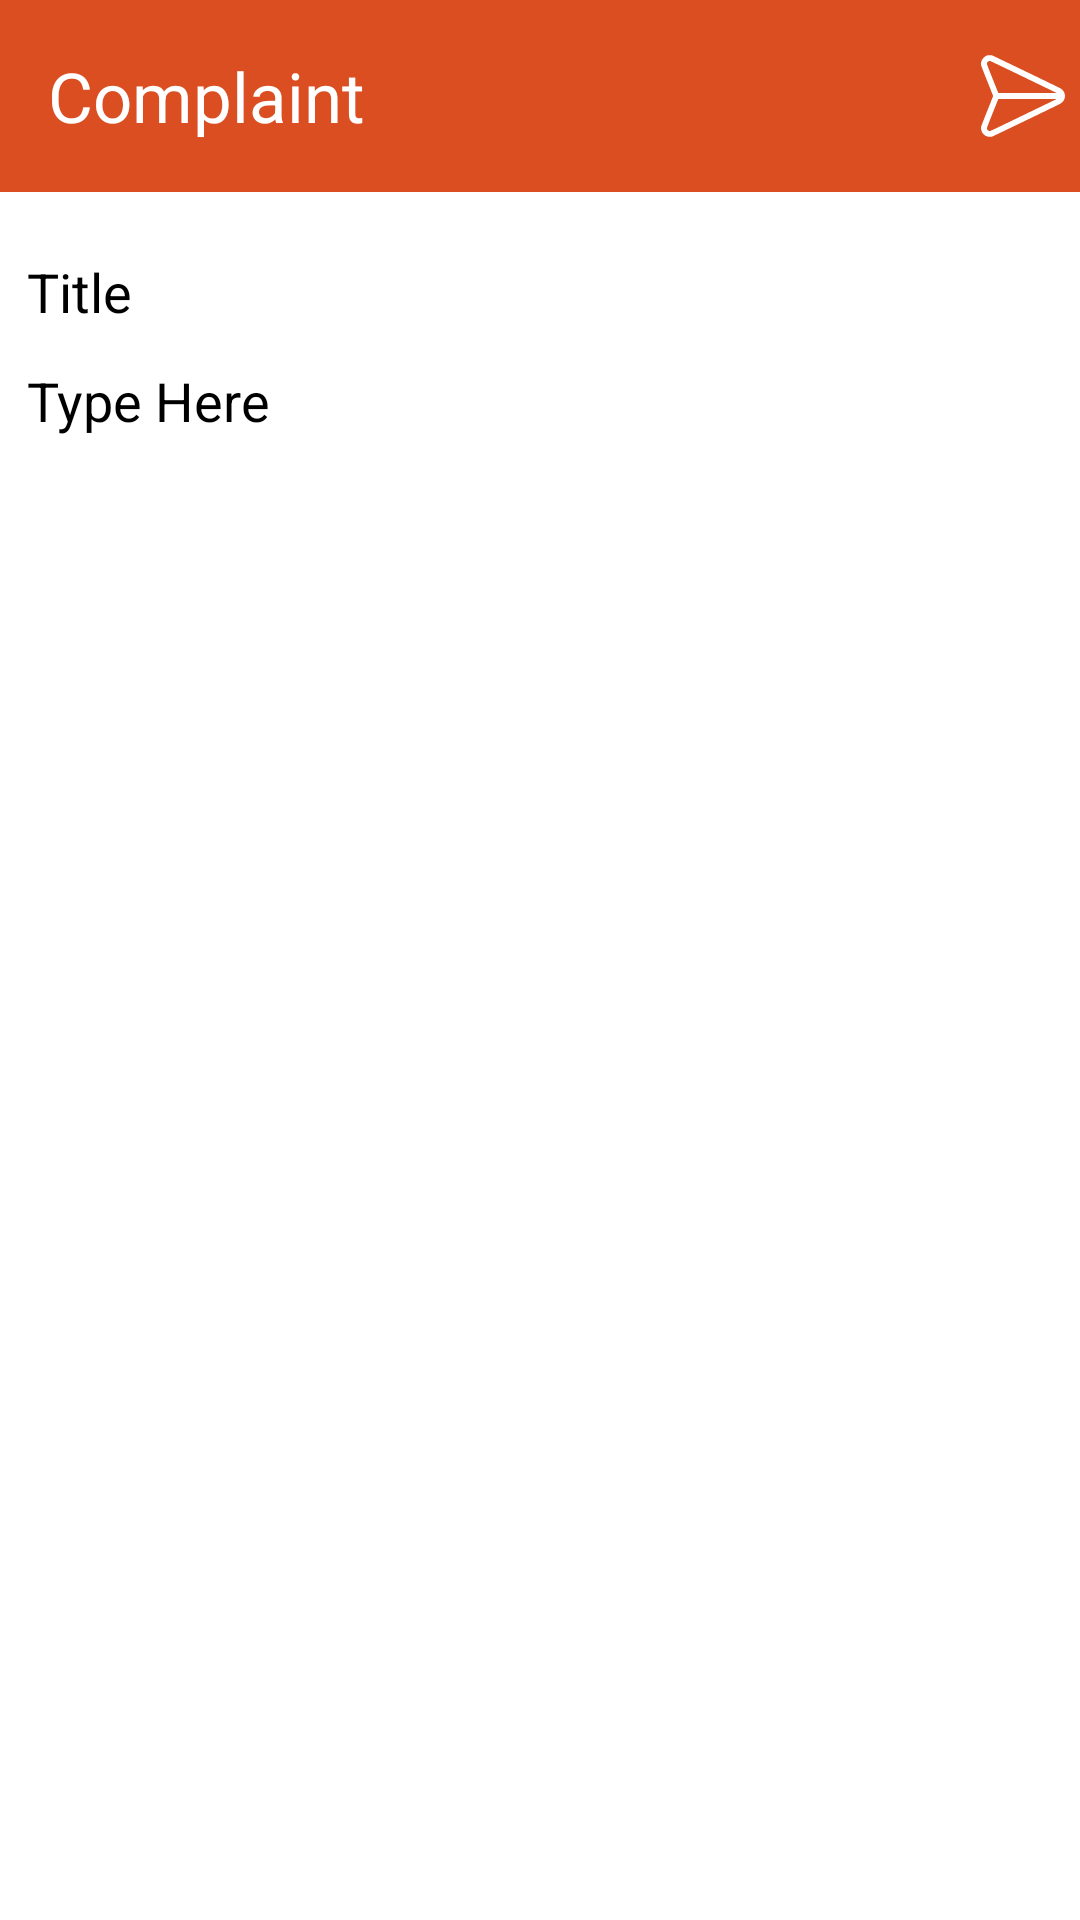

Point at icon controls on the screen. Image size 1080w x 1920h, points as (x,y).
send: (1023,96)
